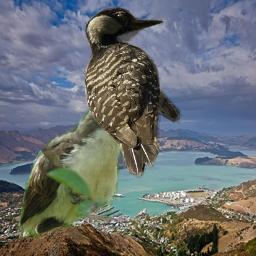Cuckoo: (16, 100, 155, 240)
Woodpecker: (84, 6, 184, 181)
